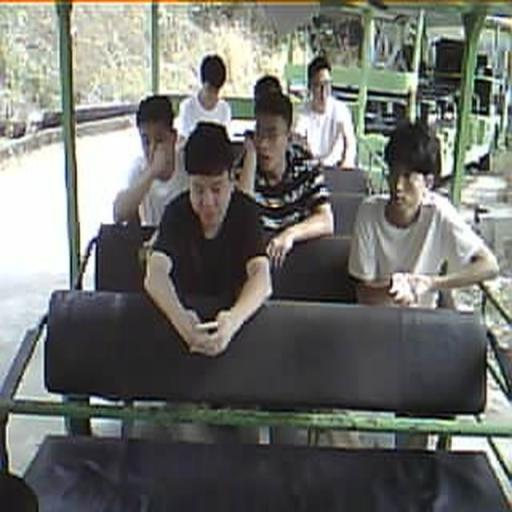persona: (142, 120, 274, 358), (346, 118, 500, 311), (234, 94, 335, 272), (112, 94, 190, 227), (292, 54, 358, 170), (174, 52, 232, 142), (255, 73, 282, 94)
